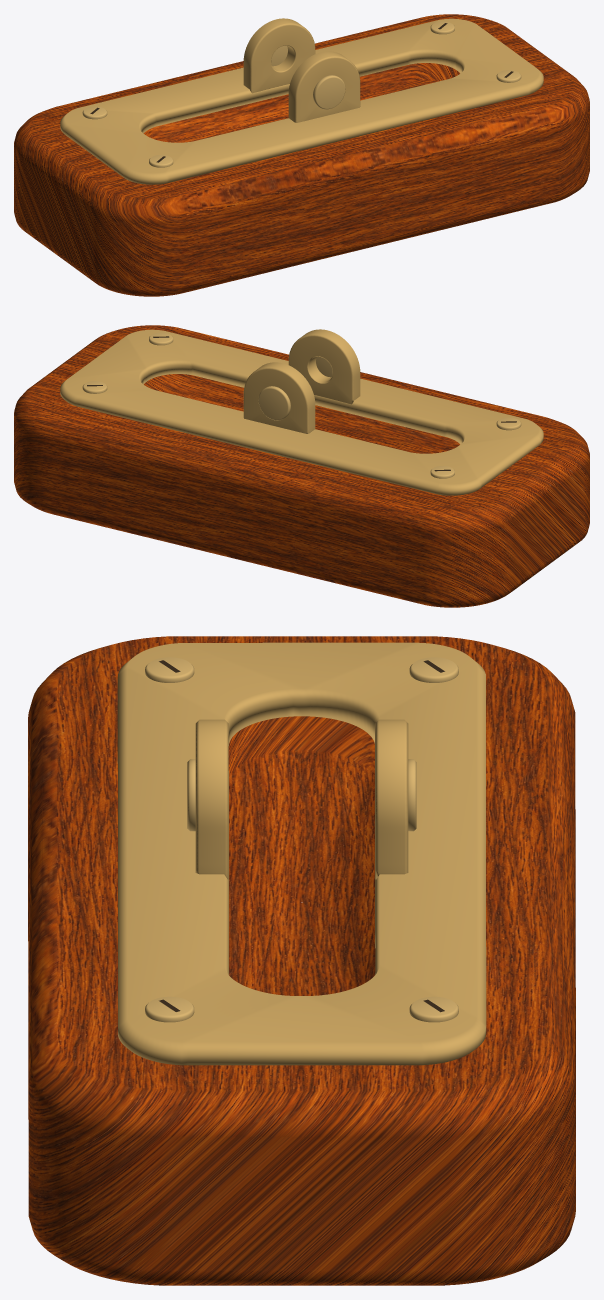
File: lever_base.glb
3 renders of one model, top to bottom at view 1: azimuth 30°, elevation 25°; view 2: azimuth 150°, elevation 25°; view 3: azimuth 270°, elevation 25°, orthographic. The views are drawn at different scales.
Parts seen in each view (by area): view 1: FixedBase_Wood, FixedBase_Brass, FixedBase_PolishedBrass; view 2: FixedBase_Wood, FixedBase_Brass, FixedBase_PolishedBrass; view 3: FixedBase_Wood, FixedBase_Brass, FixedBase_PolishedBrass.
Part boxes in pixels (<box>): FixedBase_Wood: <box>14,14,589,296</box>; FixedBase_Brass: <box>60,18,543,184</box>; FixedBase_PolishedBrass: <box>82,21,521,167</box>; FixedBase_Wood: <box>14,325,589,607</box>; FixedBase_Brass: <box>60,329,543,495</box>; FixedBase_PolishedBrass: <box>82,332,521,478</box>; FixedBase_Wood: <box>28,636,575,1285</box>; FixedBase_Brass: <box>117,642,486,1065</box>; FixedBase_PolishedBrass: <box>145,657,458,1022</box>.
Bounding box in the file's own units: 0.24 × 0.077 × 0.116.
4 materials, 1 textured.
